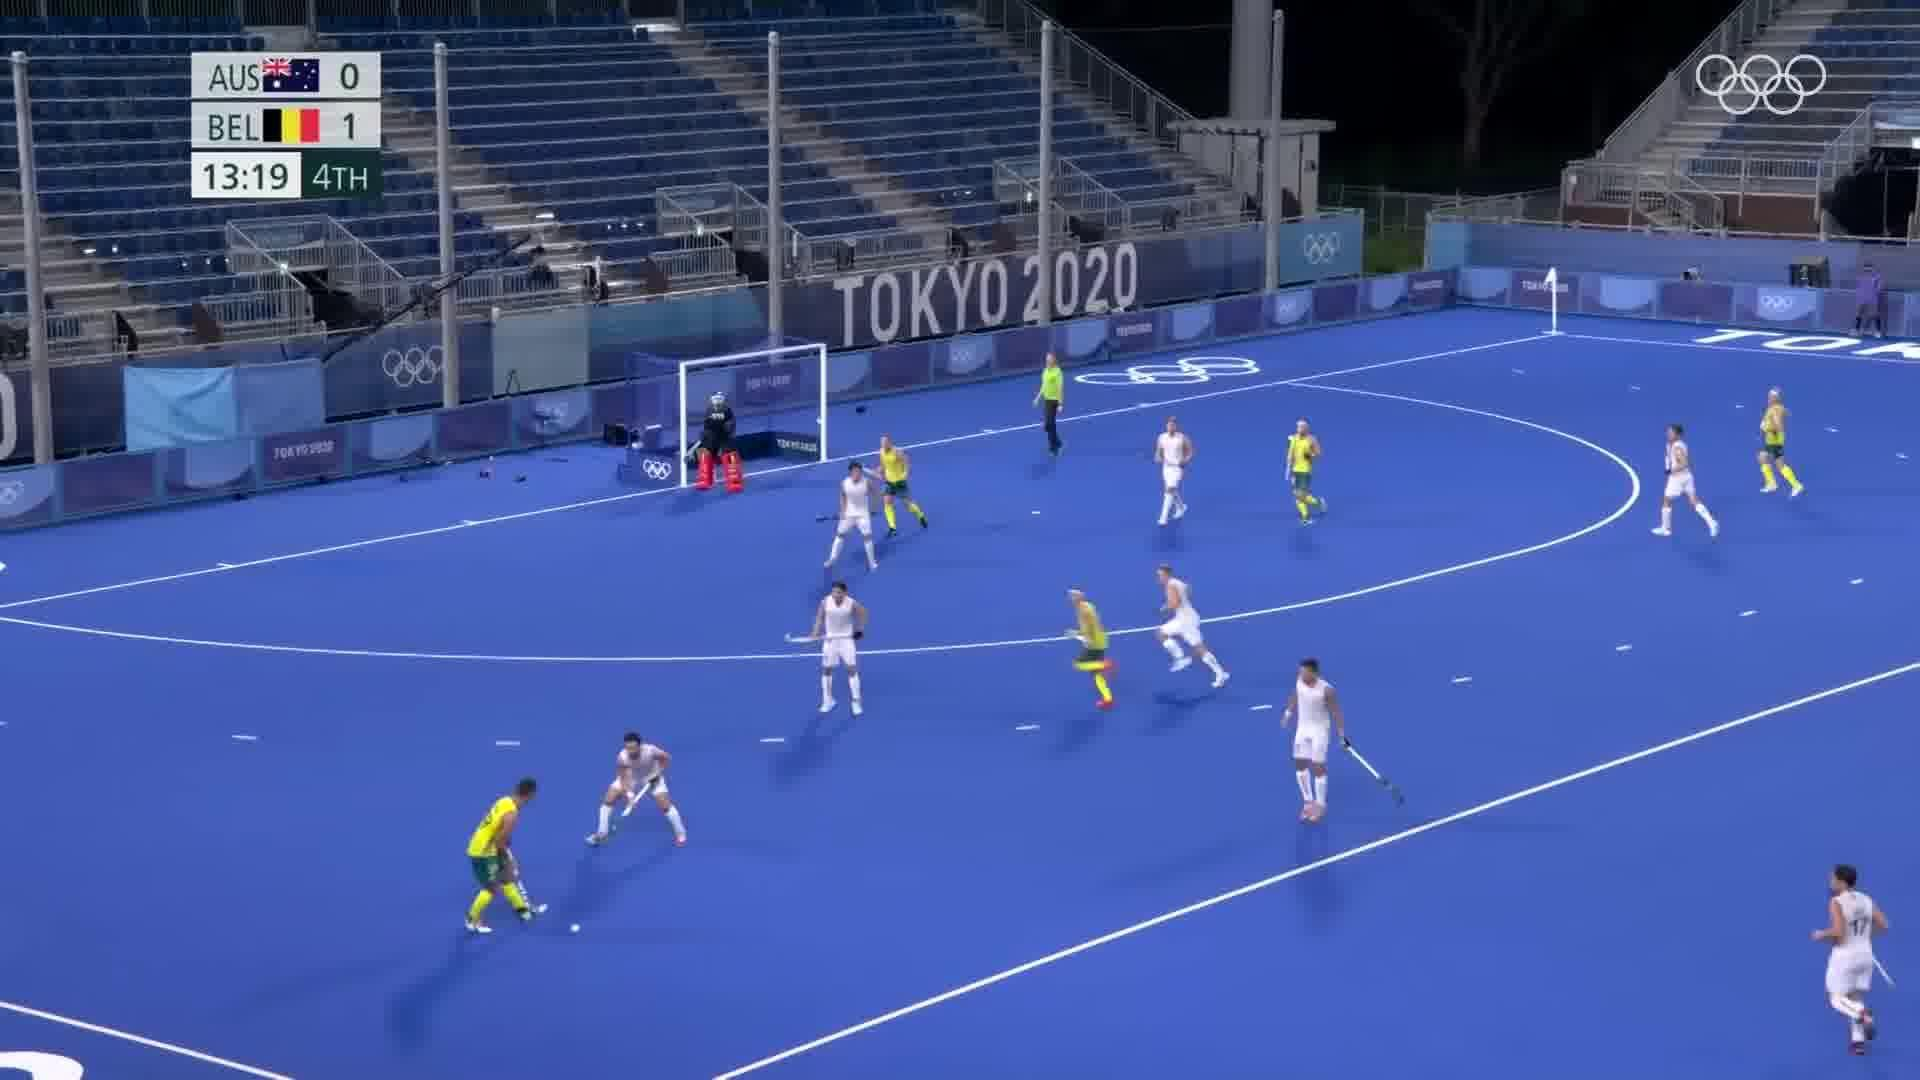ball: (564, 918, 587, 938)
